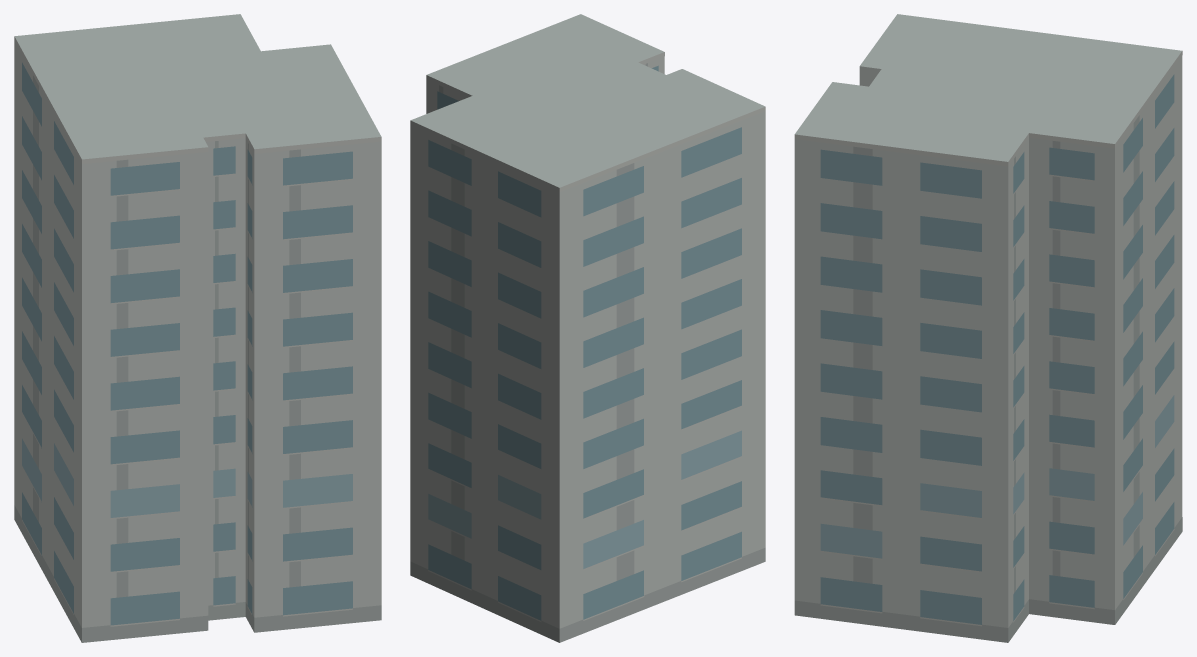
The model's file is residential-01cbba22-7893-4137-a6c1-91daa43c70e5.glb.
The picture shows the model from 3 angles, left to right: view 1: azimuth 30°, elevation 25°; view 2: azimuth 150°, elevation 25°; view 3: azimuth 270°, elevation 25°; orthographic projection. The views are drawn at different scales.
Visible parts, largest first — view 1: residential-01cbba22-7893-4137-a6c1-91daa43c70e5.tmp; view 2: residential-01cbba22-7893-4137-a6c1-91daa43c70e5.tmp; view 3: residential-01cbba22-7893-4137-a6c1-91daa43c70e5.tmp.
Part boxes in pixels (x1,y1,x2,y2): residential-01cbba22-7893-4137-a6c1-91daa43c70e5.tmp: (14,14,381,642); residential-01cbba22-7893-4137-a6c1-91daa43c70e5.tmp: (410,14,765,642); residential-01cbba22-7893-4137-a6c1-91daa43c70e5.tmp: (794,14,1182,642).
Bounding box in the file's own units: 16.5 × 25 × 18.28.
